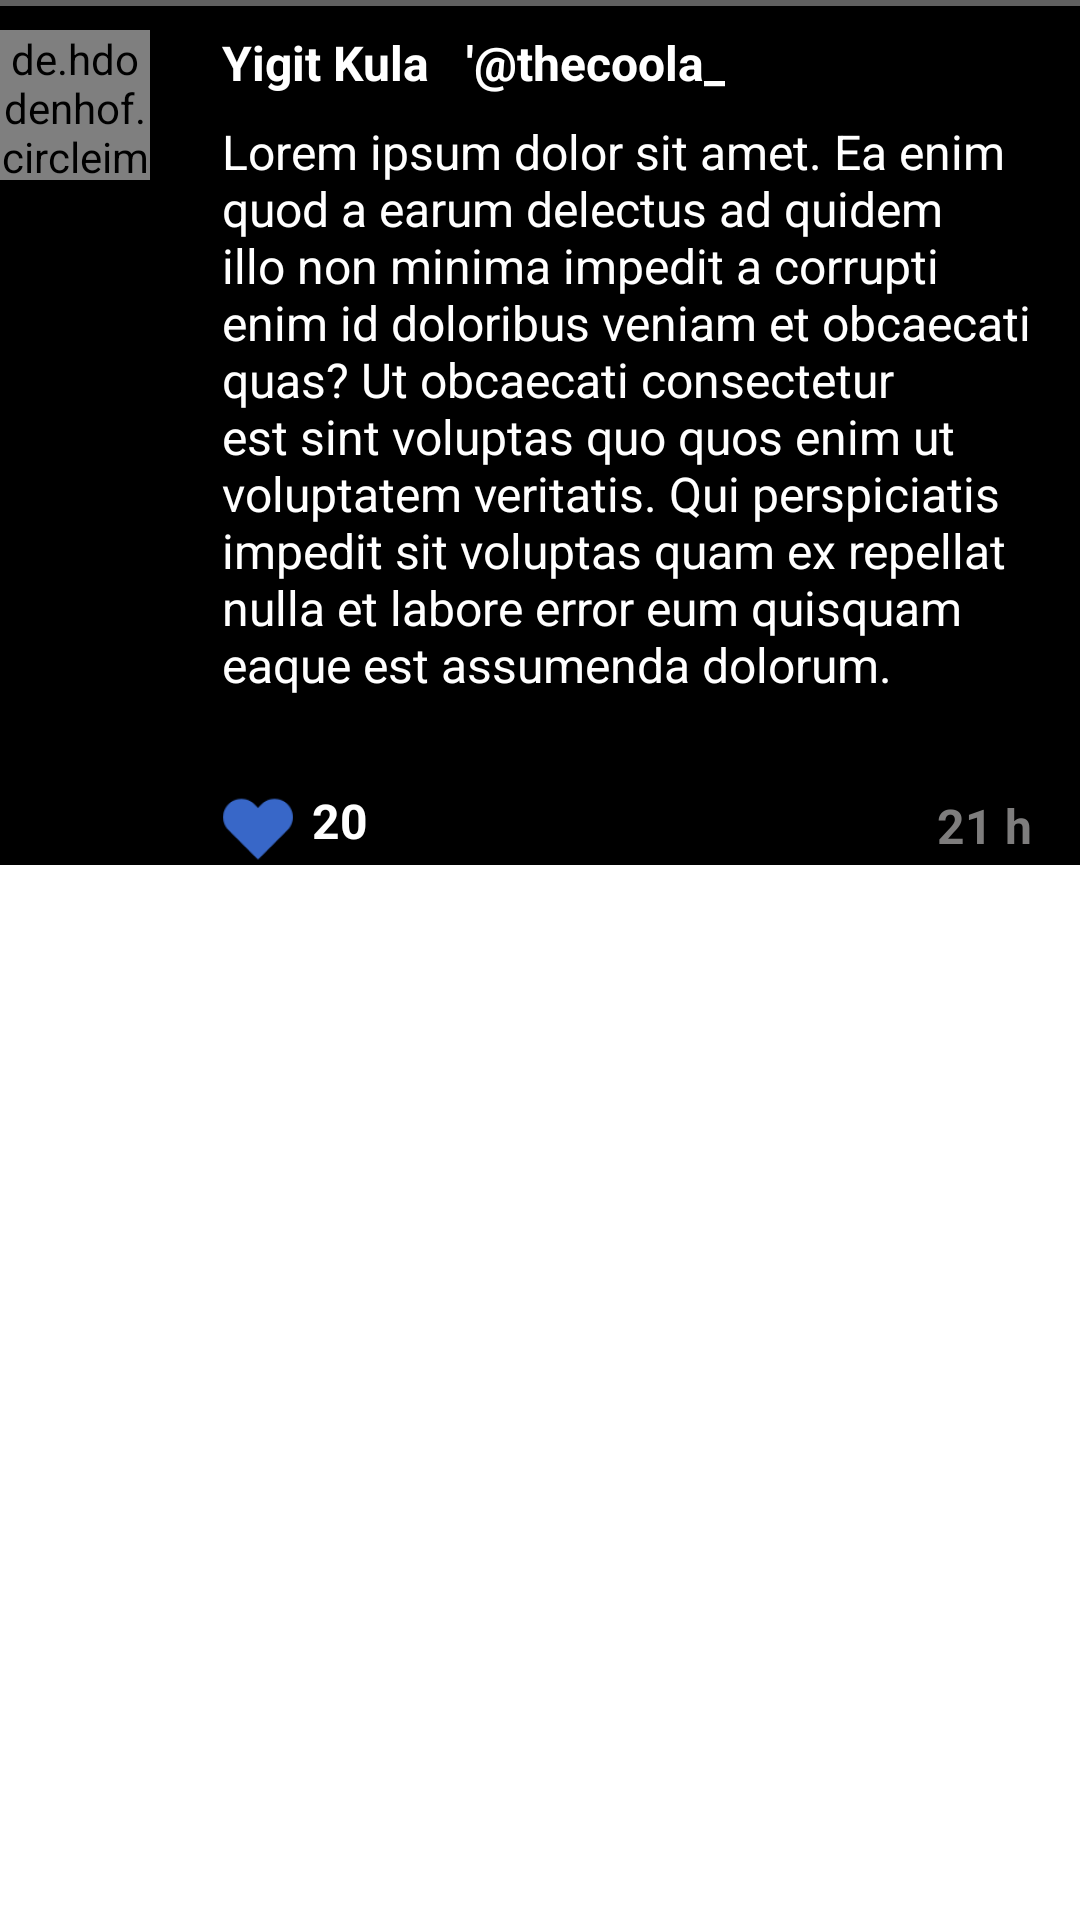

Icons on this 1080*1920 Android screen, each with its box as (x1, y1, x2, y2):
like: (223, 798, 293, 860)
